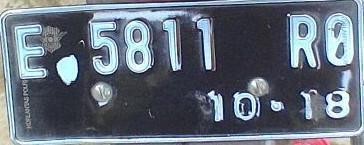1: (186, 14, 223, 72), (154, 16, 190, 75)
5: (88, 18, 125, 77)
8: (122, 17, 158, 77)
E: (12, 20, 54, 83)
O: (321, 14, 359, 70)
R: (284, 14, 324, 70)
